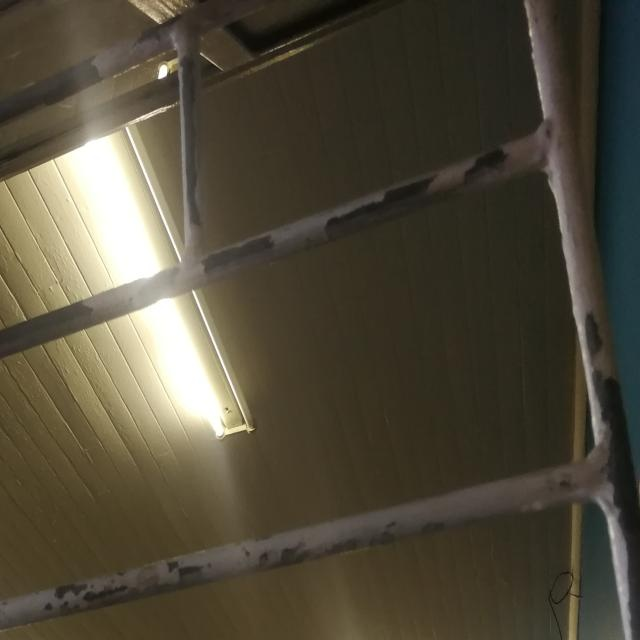fluorescent tube: (31, 88, 284, 480)
